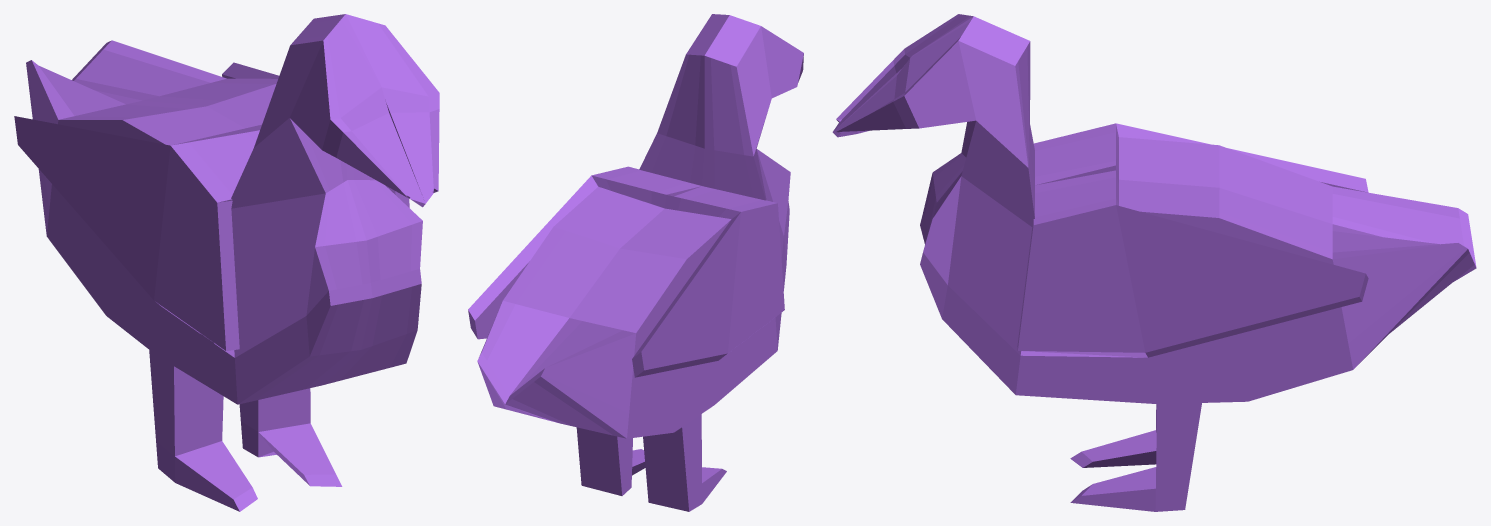
The model's file is duck.fbx.
3 views of the same model, side by side, from view 1: azimuth 30°, elevation 25°; view 2: azimuth 150°, elevation 25°; view 3: azimuth 270°, elevation 25° (orthographic). The views are drawn at different scales.
Parts seen in each view (by area): view 1: Cube; view 2: Cube; view 3: Cube.
Boxes of the visible parts, left/top/right/bottom form: Cube: left=14, top=14, right=439, bottom=511; Cube: left=468, top=14, right=803, bottom=511; Cube: left=832, top=14, right=1476, bottom=511.
Bounding box in the file's own units: 162 × 373 × 467.
